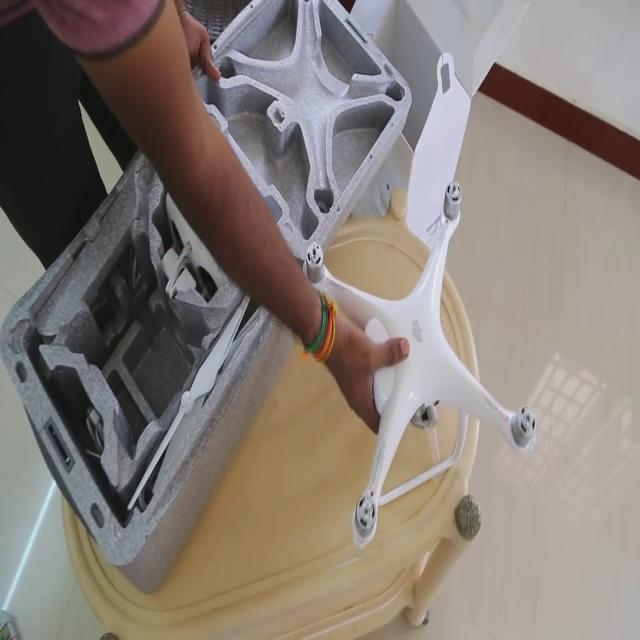drone: (295, 179, 549, 551)
